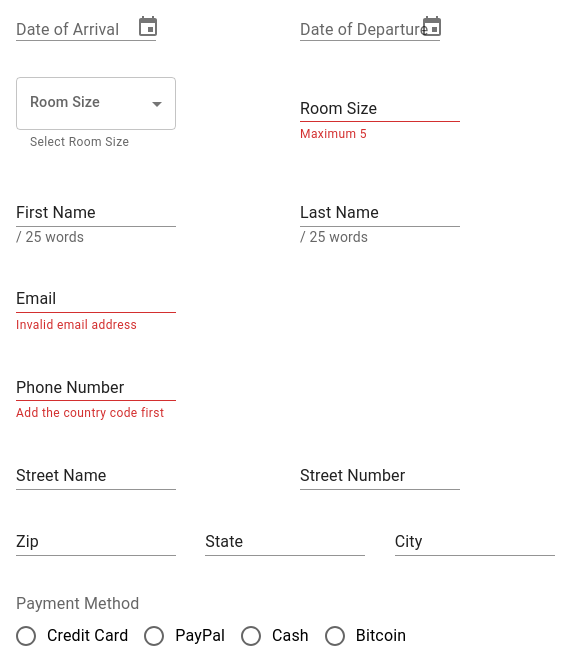
it: AddReservation component › word count for first name and last name fields
Type "John Doe" into the field labelled "First Name" at (96, 212), box [16,197,176,227]
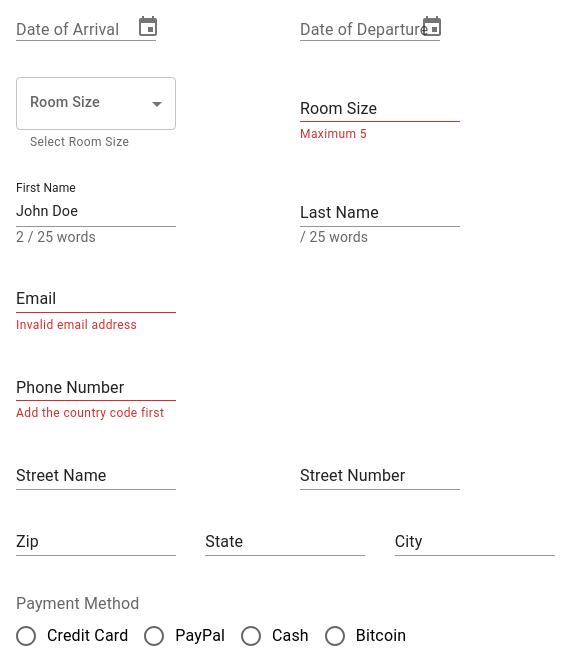
Expected: the text "2 / 25 words" is shown, [16,229,96,245]
Type "Last Name with more than 25 words in it" into the field labelled "Last Name" at (380, 212), box [300,197,460,227]
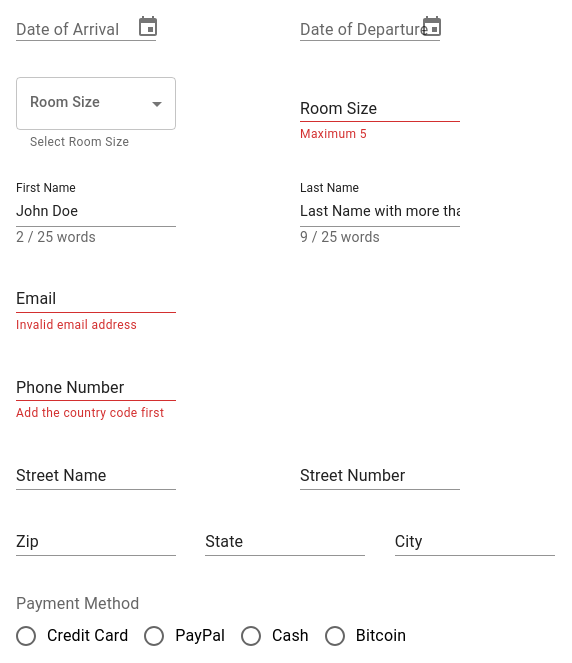
Expected: the text "9 / 25 words" is shown, [300,229,380,245]
